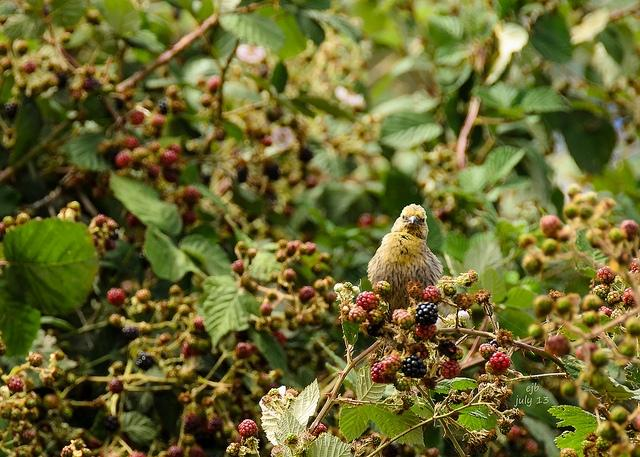blackberry: (415, 301, 439, 326), (402, 354, 427, 378), (546, 334, 570, 356), (540, 214, 562, 238), (532, 295, 554, 318), (356, 291, 378, 312), (194, 428, 217, 448), (522, 253, 542, 276), (581, 294, 604, 314), (490, 352, 510, 374), (105, 288, 126, 308), (597, 266, 616, 288), (382, 354, 402, 374), (437, 340, 457, 360), (441, 360, 461, 380), (541, 238, 561, 258), (421, 286, 443, 304), (180, 341, 201, 359), (264, 159, 280, 182), (620, 219, 639, 238), (136, 351, 155, 370), (611, 405, 630, 424), (238, 420, 258, 438), (101, 415, 121, 433), (348, 306, 368, 324), (366, 320, 385, 338), (591, 350, 610, 368), (370, 361, 386, 382), (233, 160, 247, 184), (622, 288, 636, 312), (6, 376, 24, 394), (85, 8, 103, 26), (368, 308, 386, 326), (479, 343, 496, 361), (374, 280, 391, 298), (625, 316, 640, 336), (184, 186, 200, 204), (122, 324, 140, 340), (606, 290, 622, 308), (555, 296, 571, 314), (528, 324, 546, 340), (124, 135, 140, 152), (286, 239, 302, 256), (300, 286, 316, 303), (131, 147, 149, 162), (578, 204, 596, 219), (156, 332, 172, 348), (2, 102, 18, 118), (126, 212, 142, 228), (522, 438, 538, 454), (398, 312, 414, 328), (270, 330, 286, 346), (115, 152, 131, 168), (135, 288, 151, 304), (312, 422, 328, 438), (593, 284, 610, 299), (356, 212, 374, 226), (160, 150, 178, 164), (216, 387, 234, 401), (43, 394, 59, 409), (109, 378, 124, 394), (207, 75, 220, 93), (442, 283, 457, 298), (584, 192, 600, 206), (268, 369, 284, 383), (564, 204, 578, 220), (300, 242, 316, 256), (567, 183, 583, 197), (466, 269, 478, 287), (232, 260, 244, 278), (29, 353, 44, 367), (129, 112, 144, 126), (396, 377, 410, 392), (81, 78, 98, 90), (438, 206, 450, 223), (57, 72, 68, 90), (259, 302, 273, 316), (208, 417, 222, 431), (152, 114, 166, 128), (172, 100, 186, 114), (185, 414, 200, 427), (596, 436, 608, 452), (16, 212, 32, 224), (199, 94, 212, 108), (16, 40, 29, 54), (300, 148, 313, 162), (148, 164, 160, 179), (23, 398, 38, 410), (158, 97, 168, 115), (282, 204, 294, 218), (60, 445, 74, 457), (24, 60, 36, 74), (64, 208, 78, 220), (560, 448, 578, 457), (188, 447, 204, 457), (168, 446, 184, 456), (182, 212, 195, 224), (284, 269, 296, 282), (313, 280, 326, 292), (1, 56, 12, 70), (194, 316, 205, 330), (594, 219, 608, 230), (318, 252, 330, 264), (22, 430, 34, 442), (306, 176, 318, 188), (285, 308, 297, 320), (324, 292, 336, 304), (166, 84, 178, 96), (600, 306, 613, 317), (260, 135, 273, 146), (426, 447, 440, 457), (630, 258, 640, 272), (31, 444, 42, 456), (54, 350, 65, 362), (246, 248, 258, 259), (611, 309, 624, 319), (70, 90, 82, 100), (499, 426, 512, 435), (96, 214, 105, 227), (82, 447, 93, 457), (324, 276, 334, 287), (406, 396, 415, 408), (226, 442, 235, 454), (286, 432, 296, 442), (496, 447, 507, 456), (1, 43, 8, 57), (581, 440, 591, 449), (0, 224, 5, 242), (70, 201, 80, 210), (86, 66, 95, 74), (491, 338, 498, 348), (234, 434, 242, 442), (268, 388, 278, 394), (343, 282, 353, 288)
